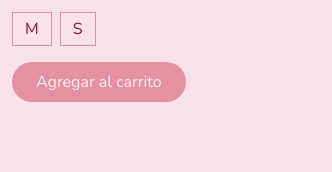
VariantSelector › resets the confirmation state when a different variant is selected
Click the button "M" at (32, 29), box 12,12 -> 52,46
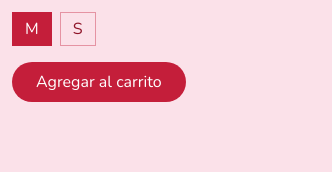
Click the button "Agregar al carrito" at (99, 82), box 12,62 -> 186,102
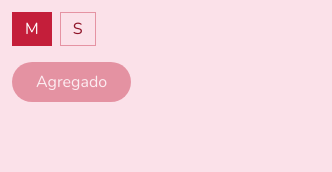
Now the button "Agregado" is disabled, box 12,62 -> 131,102
Click the button "S" at (78, 29), box 60,12 -> 96,46
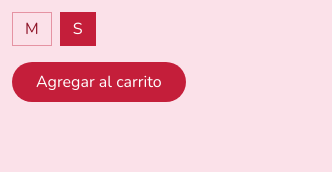
Now the button "Agregar al carrito" is enabled, box 12,62 -> 186,102
